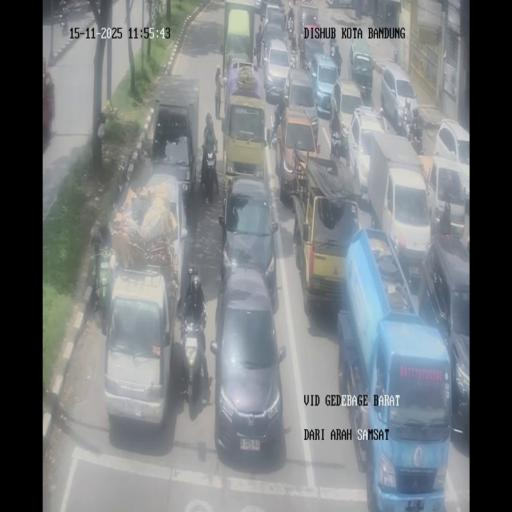3: (338, 232, 450, 507), (294, 158, 362, 317), (364, 134, 429, 276), (149, 78, 200, 205), (222, 92, 268, 196), (223, 0, 257, 92), (42, 61, 55, 148)
car: (211, 269, 286, 464), (102, 267, 175, 432), (217, 175, 279, 299), (425, 154, 468, 240), (282, 65, 318, 138), (381, 63, 418, 132), (334, 78, 367, 152), (262, 40, 292, 101), (348, 40, 374, 97), (301, 32, 324, 72), (263, 1, 286, 31), (300, 5, 318, 35)
truck: (177, 312, 208, 408), (90, 233, 114, 321), (200, 147, 219, 203), (404, 113, 424, 152), (269, 104, 282, 148), (330, 125, 343, 160), (330, 87, 340, 132), (329, 36, 339, 60), (289, 45, 298, 70), (60, 10, 68, 34), (286, 23, 294, 43), (417, 145, 425, 156)
